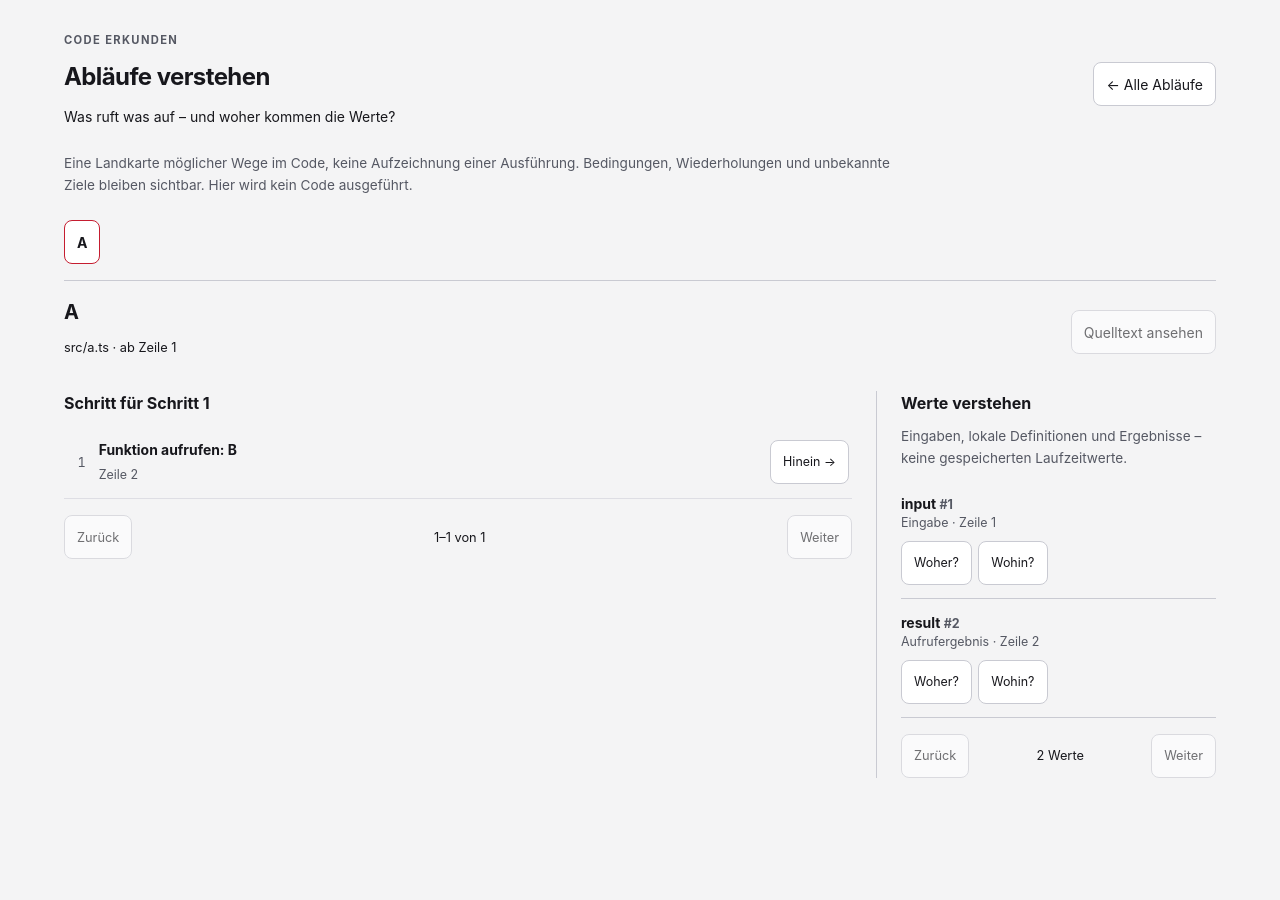
Test case: FlowWorkspace › opens a map selection directly and resolves source by occurrence only
expect the heading "Werte verstehen" is shown: met, box left=901, top=393, right=1031, bottom=413
Click the button "1 Funktion aufrufen: B Zeile 2": (168, 450) left=67, top=429, right=764, bottom=495
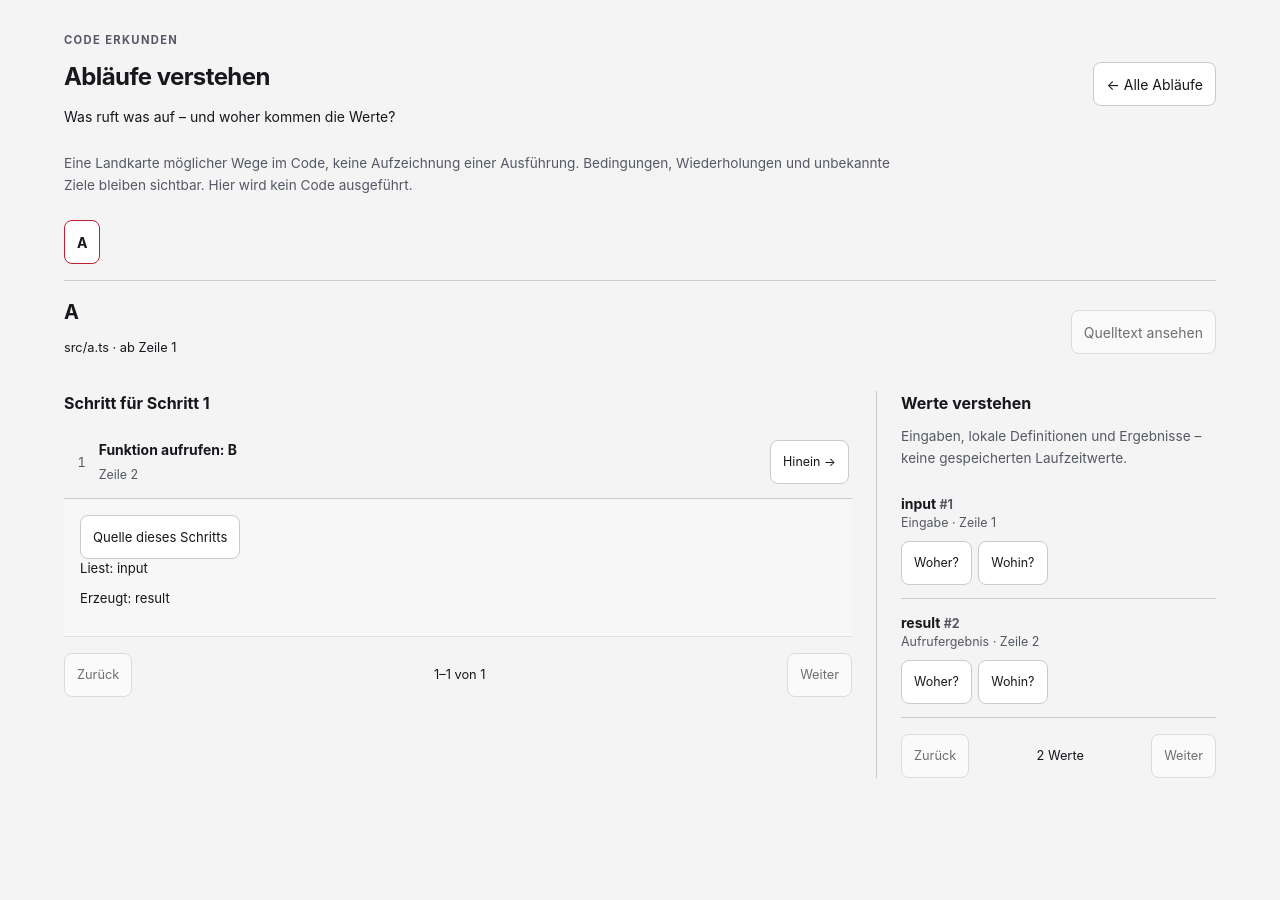
Click the button "Quelle dieses Schritts": (160, 537) left=80, top=515, right=240, bottom=559
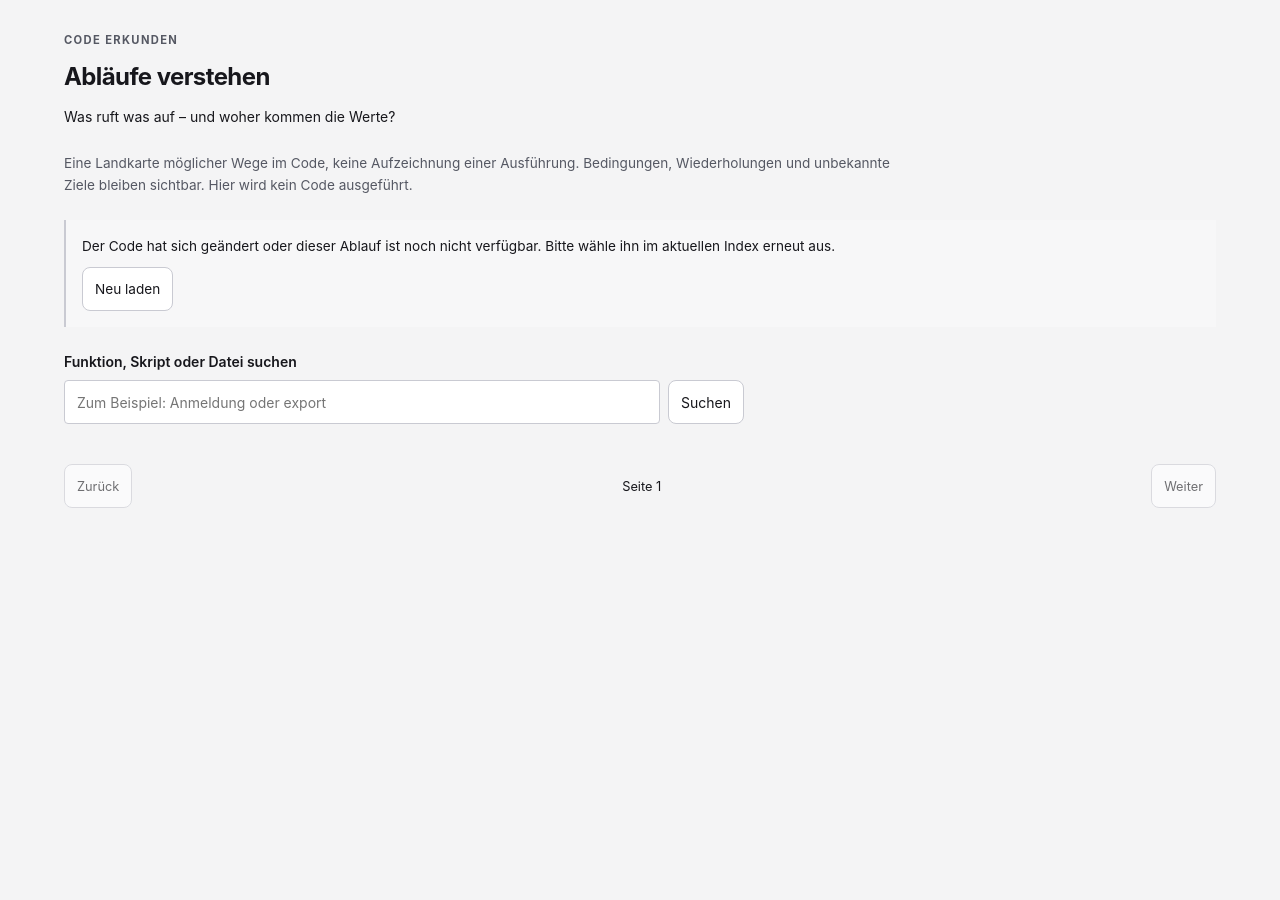
expect the heading "Werte verstehen" is gone: met
